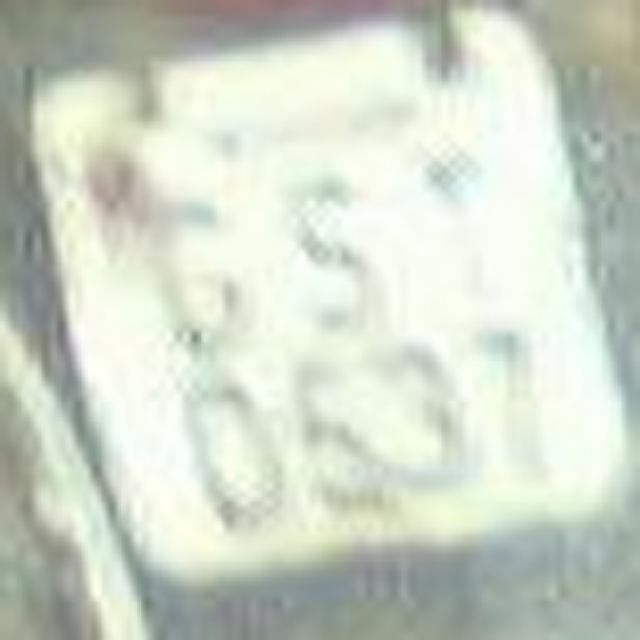0: (164, 348, 308, 552)
3: (344, 309, 491, 516)
7: (445, 280, 580, 505)
8: (272, 328, 400, 528)
S: (272, 156, 388, 329)
